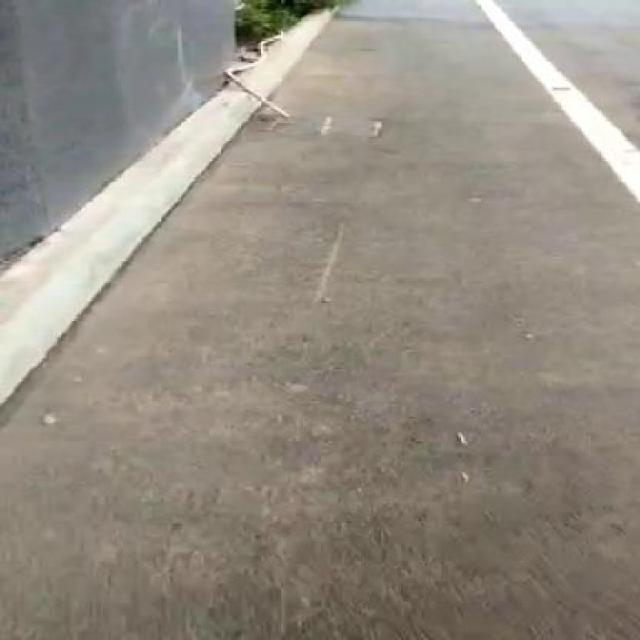Manhole: (262, 108, 404, 142)
